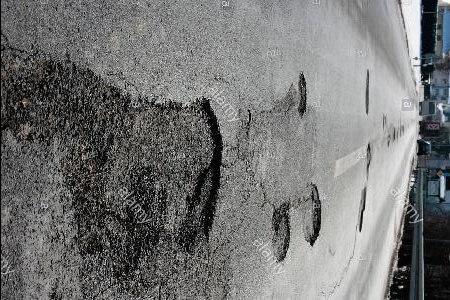pothole: (58, 93, 225, 283), (269, 199, 295, 264), (302, 180, 323, 247), (355, 179, 368, 232), (296, 71, 307, 117), (365, 66, 373, 115), (364, 138, 374, 175), (384, 133, 393, 147)
